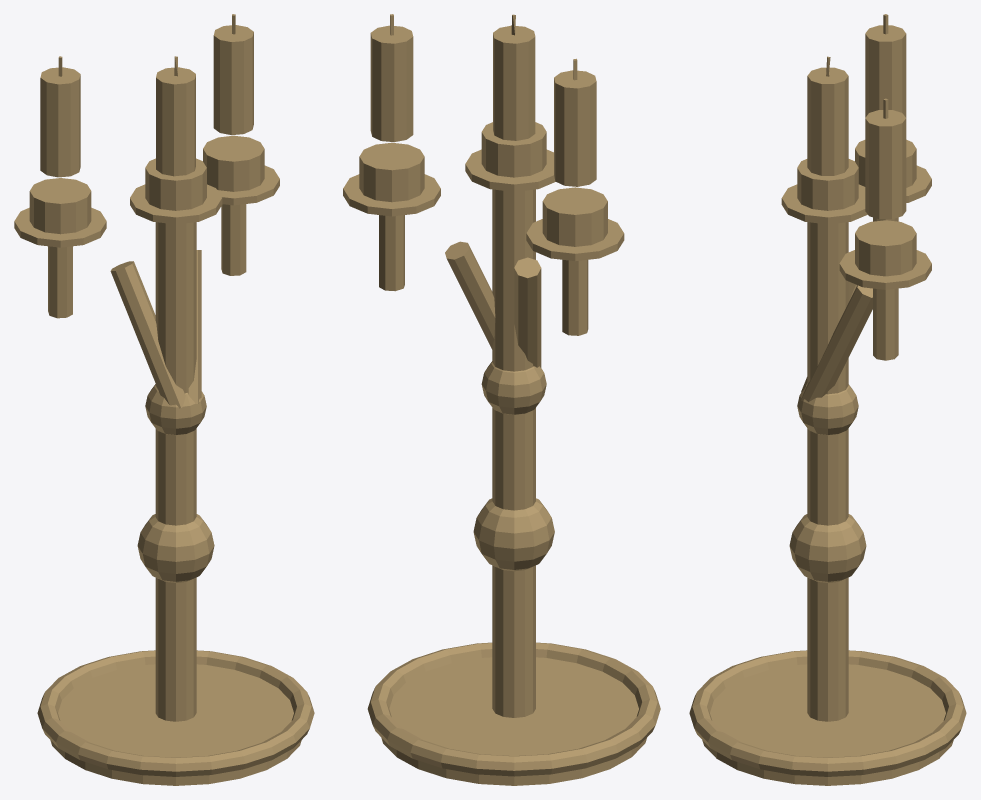
File: candelabra.glb
3 views of the same model, side by side, from view 1: azimuth 30°, elevation 25°; view 2: azimuth 150°, elevation 25°; view 3: azimuth 270°, elevation 25° (orthographic). The views are drawn at different scales.
Parts seen in each view (by area): view 1: candelabra; view 2: candelabra; view 3: candelabra.
Boxes of the visible parts, left/top/right/bottom form: candelabra: left=14, top=14, right=314, bottom=785; candelabra: left=343, top=14, right=660, bottom=785; candelabra: left=689, top=14, right=966, bottom=785.
Size of the model in its own units: 0.1139 by 0.29 by 0.108.
